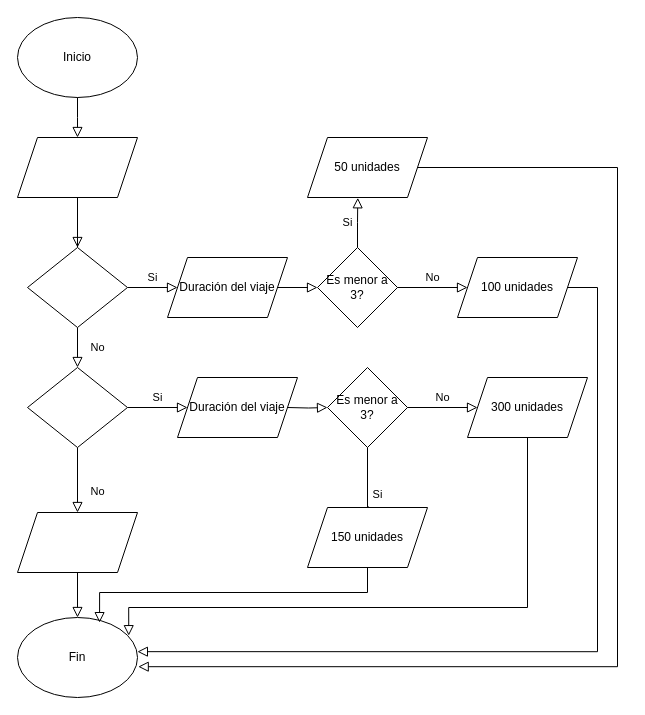
Some shapes in this 645 by 715 pixel diagram are drawn without their labels. Here are the shapes that lost their labels. From the top down, the box of each, then its label:
(16, 136, 138, 198): Tamaño del equipo
(26, 246, 128, 328): pequeño
(26, 366, 128, 448): Grande
(16, 512, 138, 572): Error
